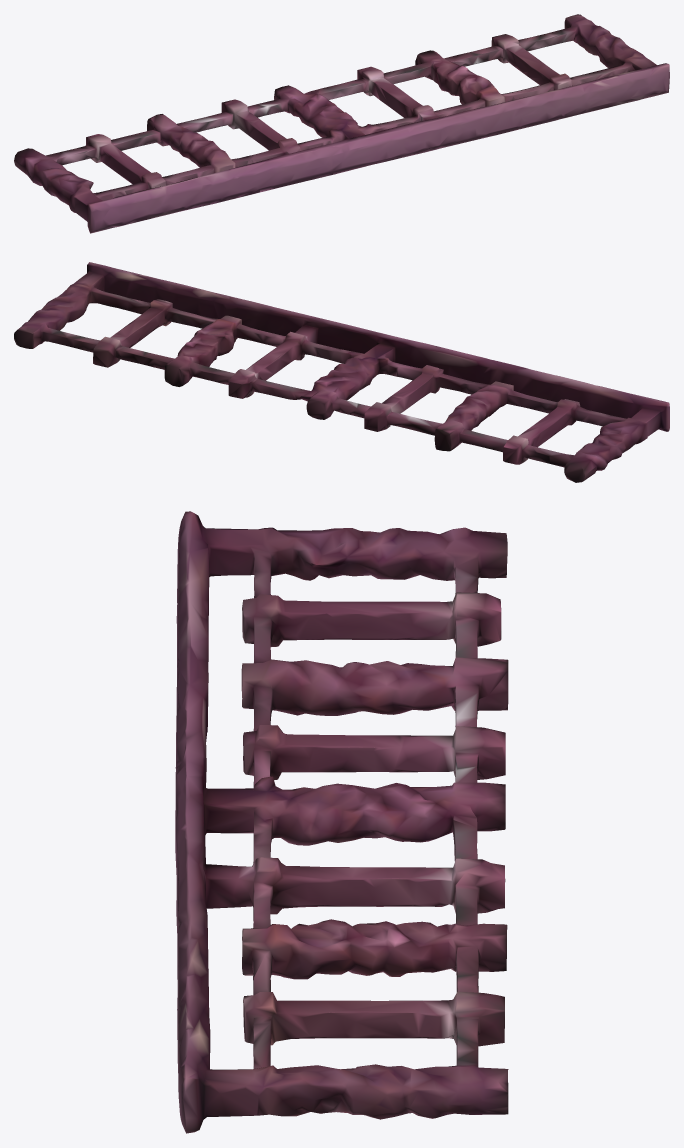
Rendered from railing-red.glb.
3 renders of one model, top to bottom at view 1: azimuth 30°, elevation 25°; view 2: azimuth 150°, elevation 25°; view 3: azimuth 270°, elevation 25°, orthographic. The views are drawn at different scales.
Parts seen in each view (by area): view 1: railing-red; view 2: railing-red; view 3: railing-red.
Boxes of the visible parts, box(x1,y1,x2,y2) form: railing-red: box(14, 14, 669, 233); railing-red: box(14, 262, 669, 482); railing-red: box(175, 511, 508, 1133).
Bounding box in the file's own units: 1 × 0.05 × 0.2491.
